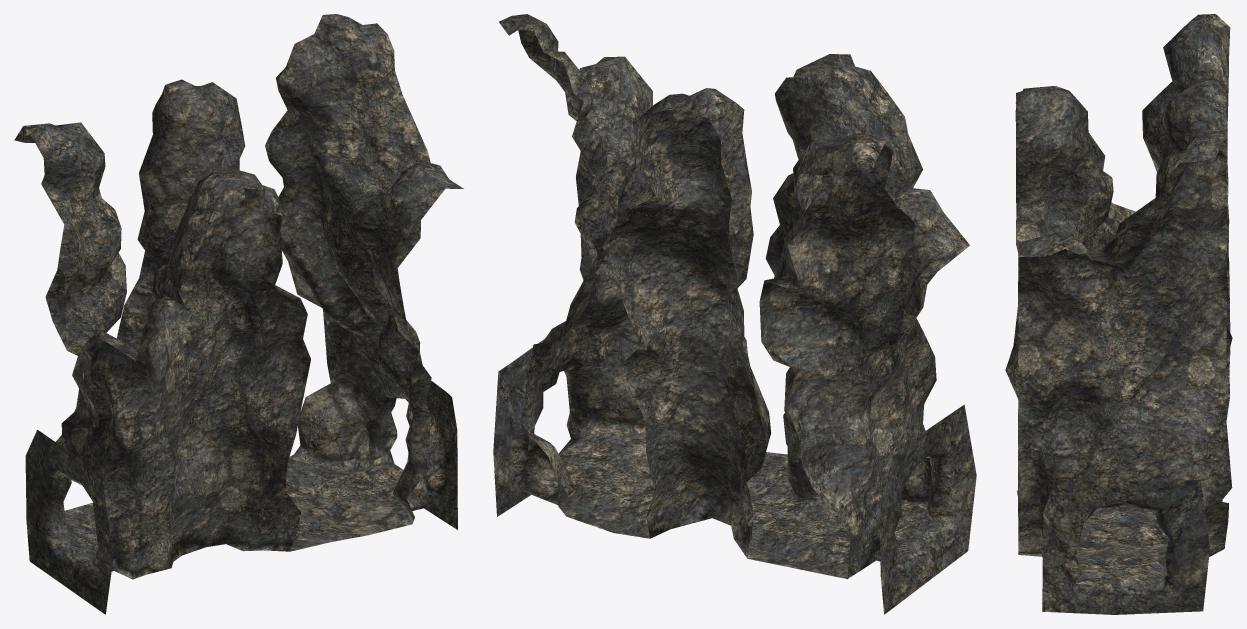
File: Module13A.fbx
3 renders of one model, left to right at view 1: azimuth 30°, elevation 25°; view 2: azimuth 150°, elevation 25°; view 3: azimuth 270°, elevation 25°, orthographic. The views are drawn at different scales.
Visible parts, largest first — view 1: cave_el13_1900_Group18711; view 2: cave_el13_1900_Group18711; view 3: cave_el13_1900_Group18711.
Part boxes in pixels (left/top/right/bottom): cave_el13_1900_Group18711: left=14, top=14, right=463, bottom=614; cave_el13_1900_Group18711: left=493, top=14, right=976, bottom=614; cave_el13_1900_Group18711: left=1005, top=14, right=1232, bottom=614.
Size of the model in its own units: 20.85 by 25.7 by 11.39.
